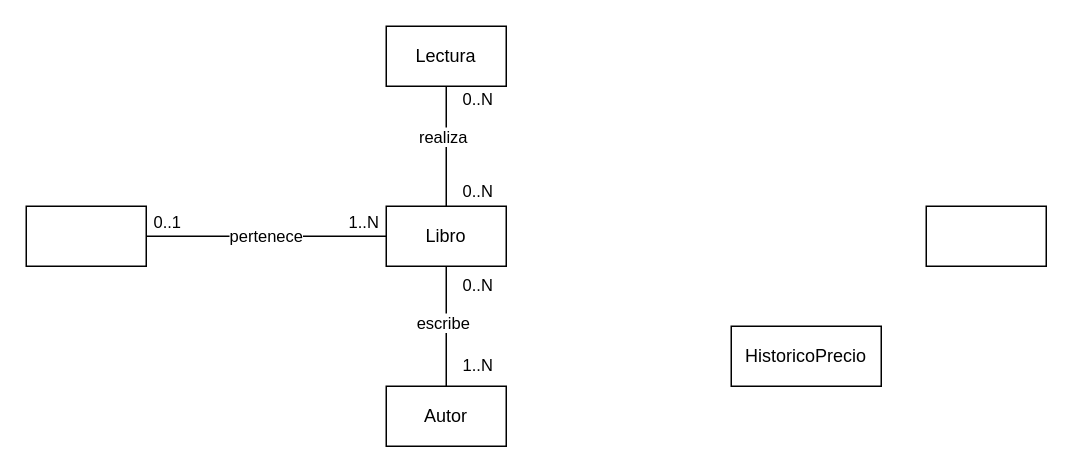
Some shapes in this 1073 by 473 pixel diagram are drawn without their labels. Here are the shapes that lost their labels. From the top down, the box of each, then its label:
(25, 205, 146, 266): Saga
(925, 205, 1046, 266): Tienda
